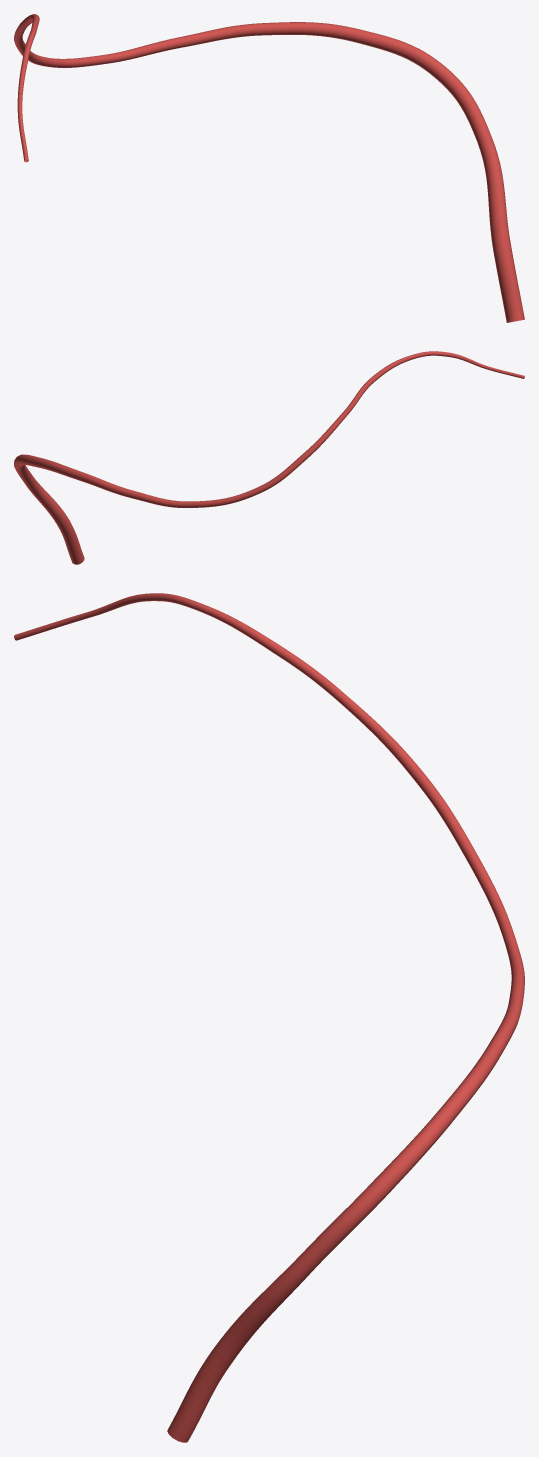
3 views of the same model, one above another, from view 1: azimuth 30°, elevation 25°; view 2: azimuth 150°, elevation 25°; view 3: azimuth 270°, elevation 25° (orthographic). The views are drawn at different scales.
Parts seen in each view (by area): view 1: 右侧枕外侧动脉; view 2: 右侧枕外侧动脉; view 3: 右侧枕外侧动脉.
Boxes of the visible parts, x1,y1,x2,y2 form: 右侧枕外侧动脉: (14, 14, 524, 322); 右侧枕外侧动脉: (14, 351, 524, 564); 右侧枕外侧动脉: (14, 593, 524, 1442).
Size of the model in its own units: 0.0639 by 0.0432 by 0.0374.
